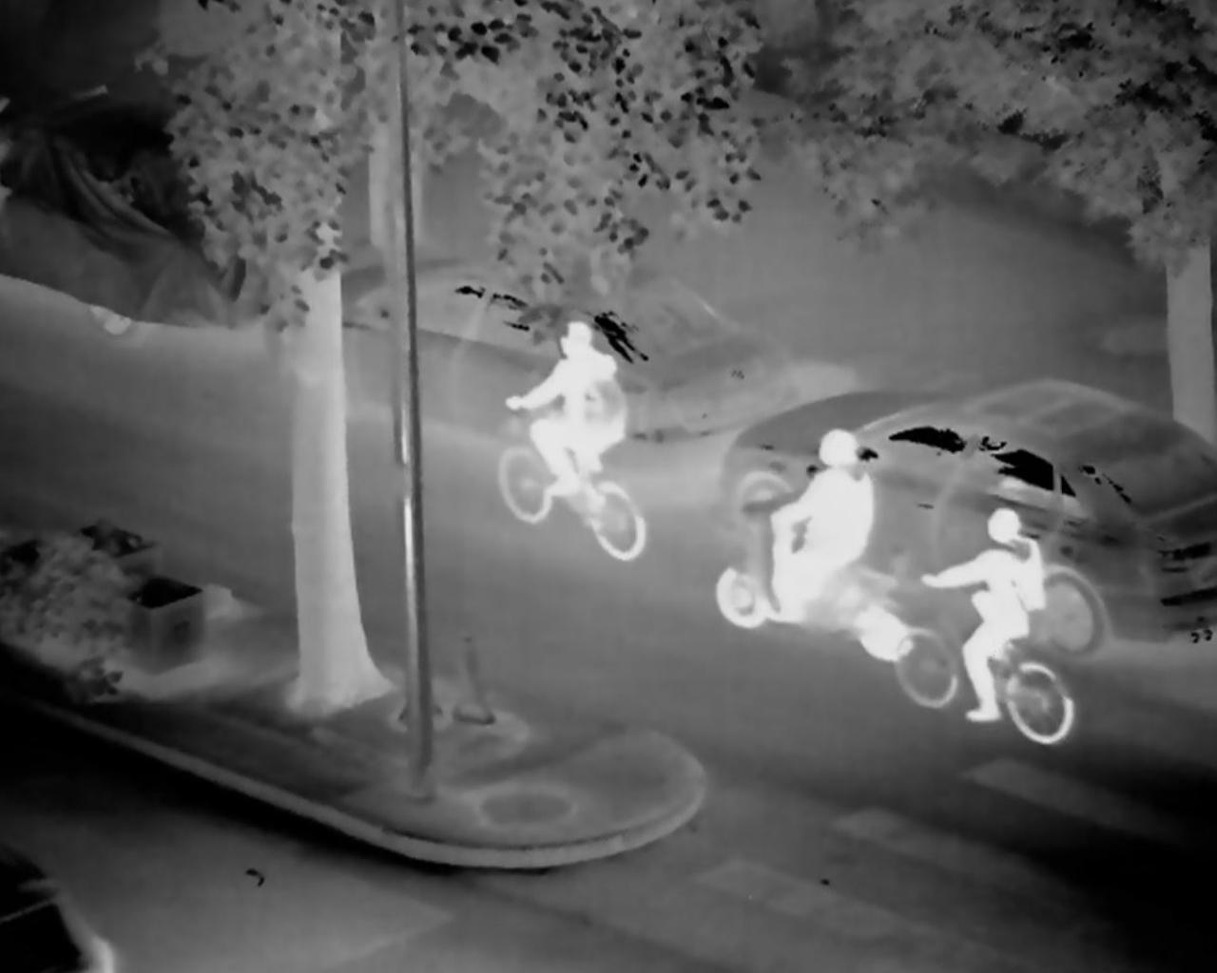person: (915, 506, 1040, 722), (767, 426, 881, 638), (511, 316, 625, 526)
